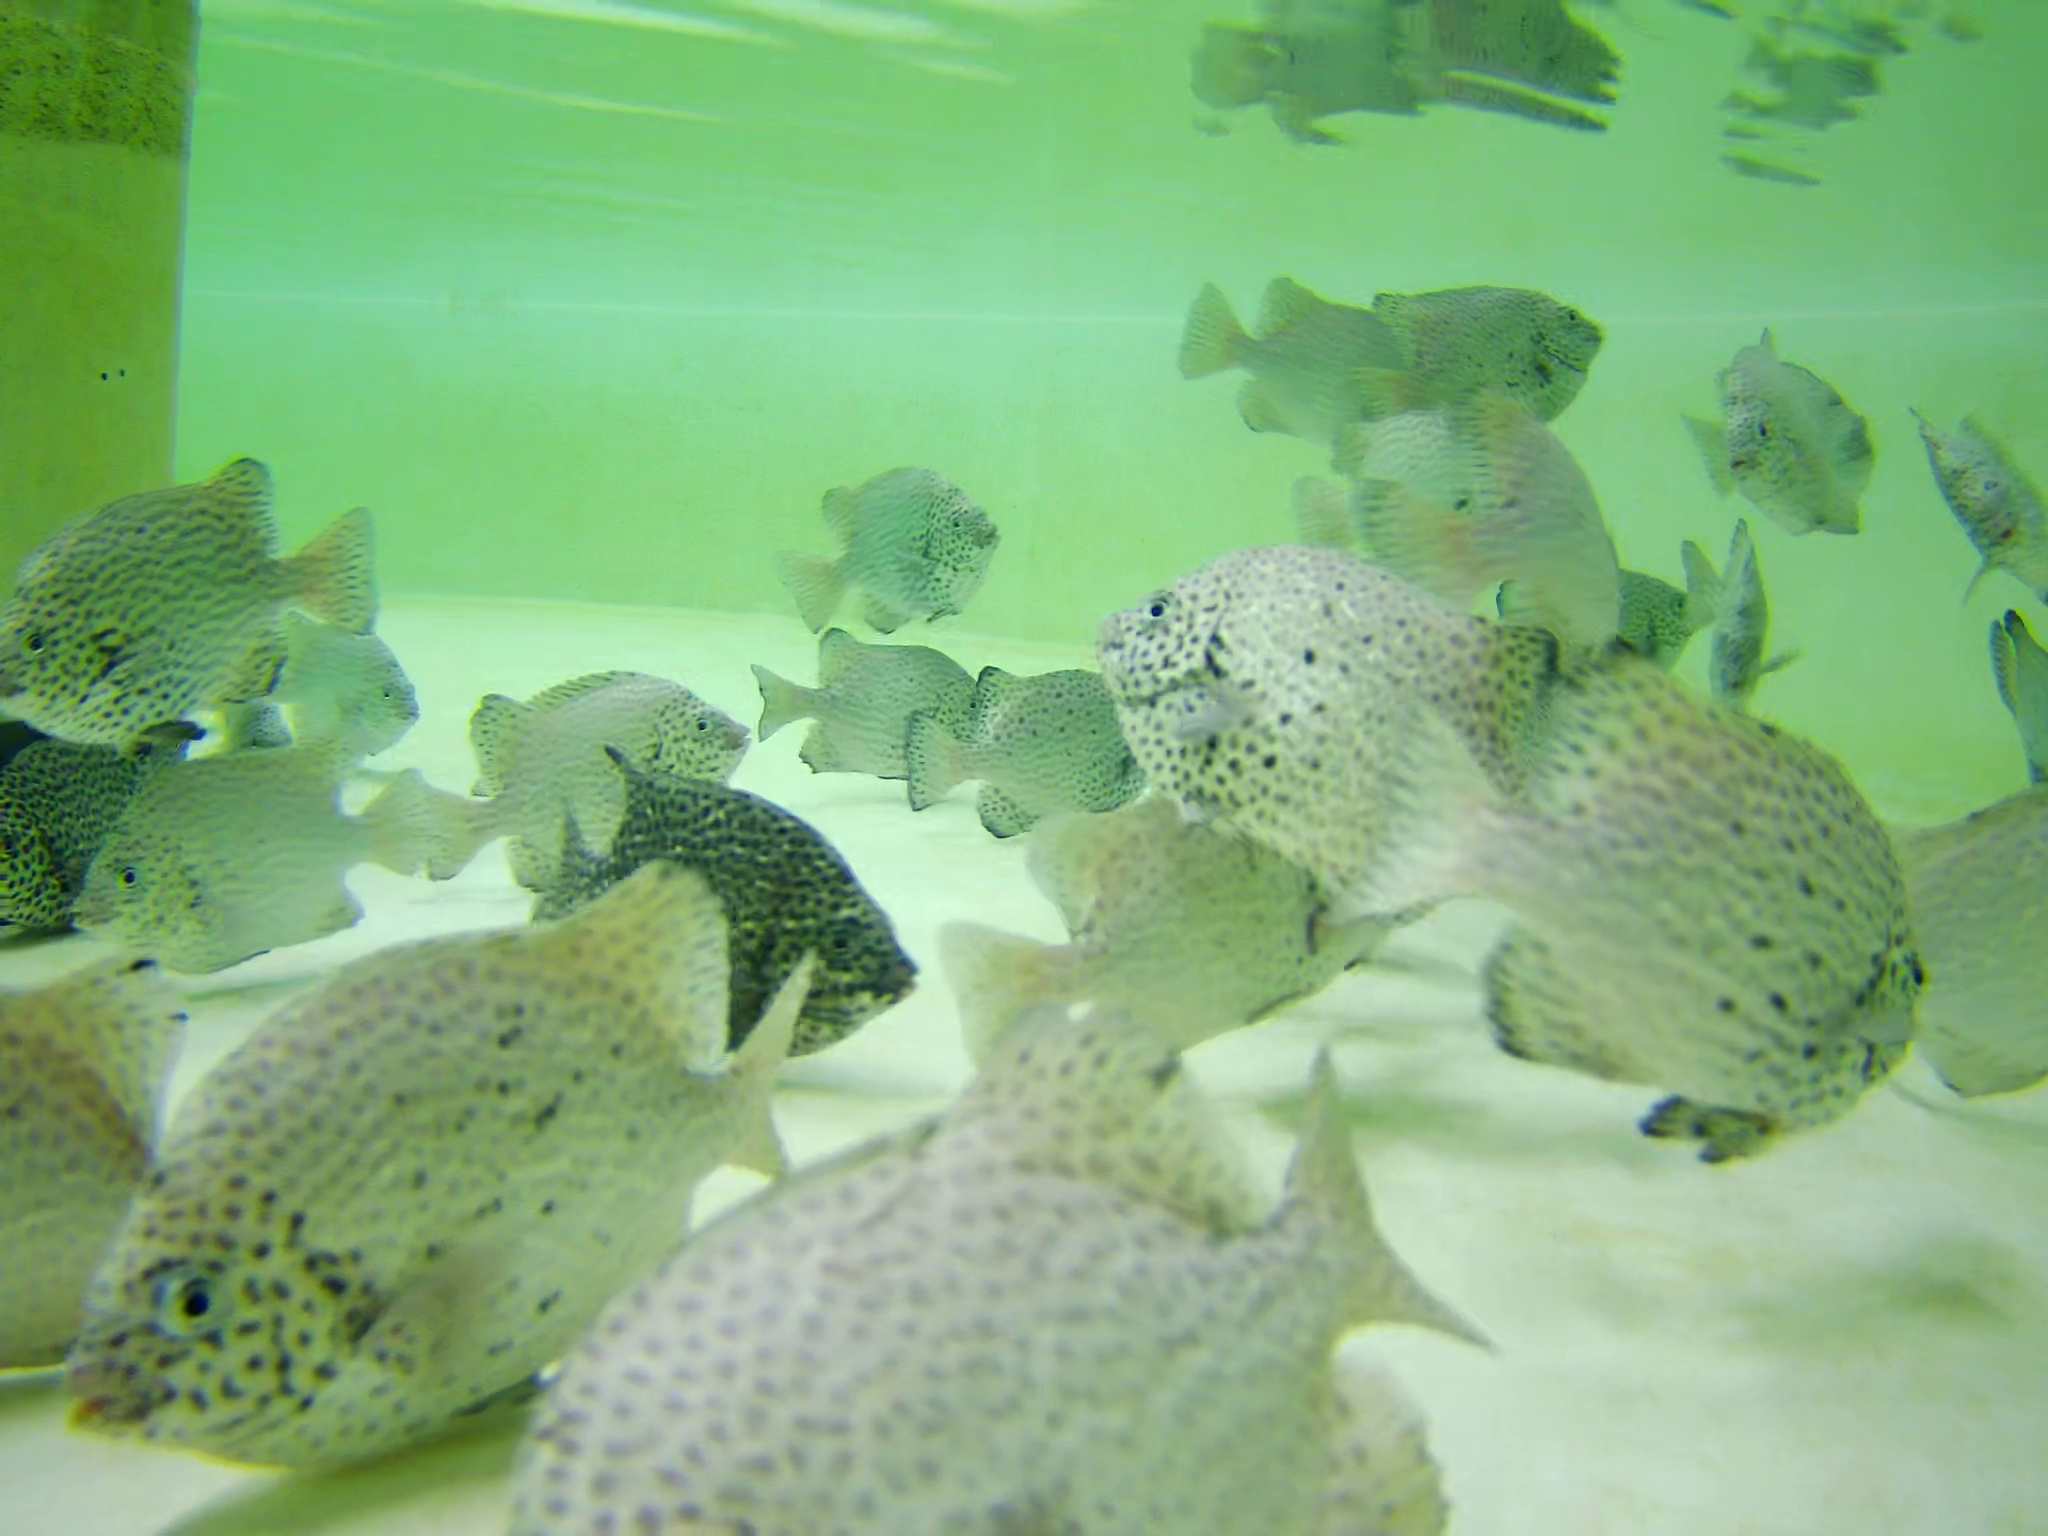fish: (469, 1000, 1482, 1536), (71, 862, 826, 1455), (1327, 632, 1914, 1160), (1097, 526, 1550, 925), (914, 787, 1385, 1091), (2, 954, 244, 1394), (13, 449, 410, 716), (521, 791, 918, 1055), (405, 658, 737, 865), (65, 770, 385, 965), (1880, 762, 2048, 1133), (776, 428, 1003, 634), (889, 658, 1161, 824), (2, 715, 224, 912), (1335, 273, 1624, 424), (758, 629, 1013, 795), (1456, 410, 1629, 650), (1187, 269, 1408, 444), (1664, 369, 1864, 552), (1309, 418, 1505, 584), (1759, 316, 1903, 524), (1916, 394, 2048, 591), (276, 602, 427, 752), (1675, 531, 1775, 710), (1542, 565, 1687, 673), (1979, 613, 2048, 773)
